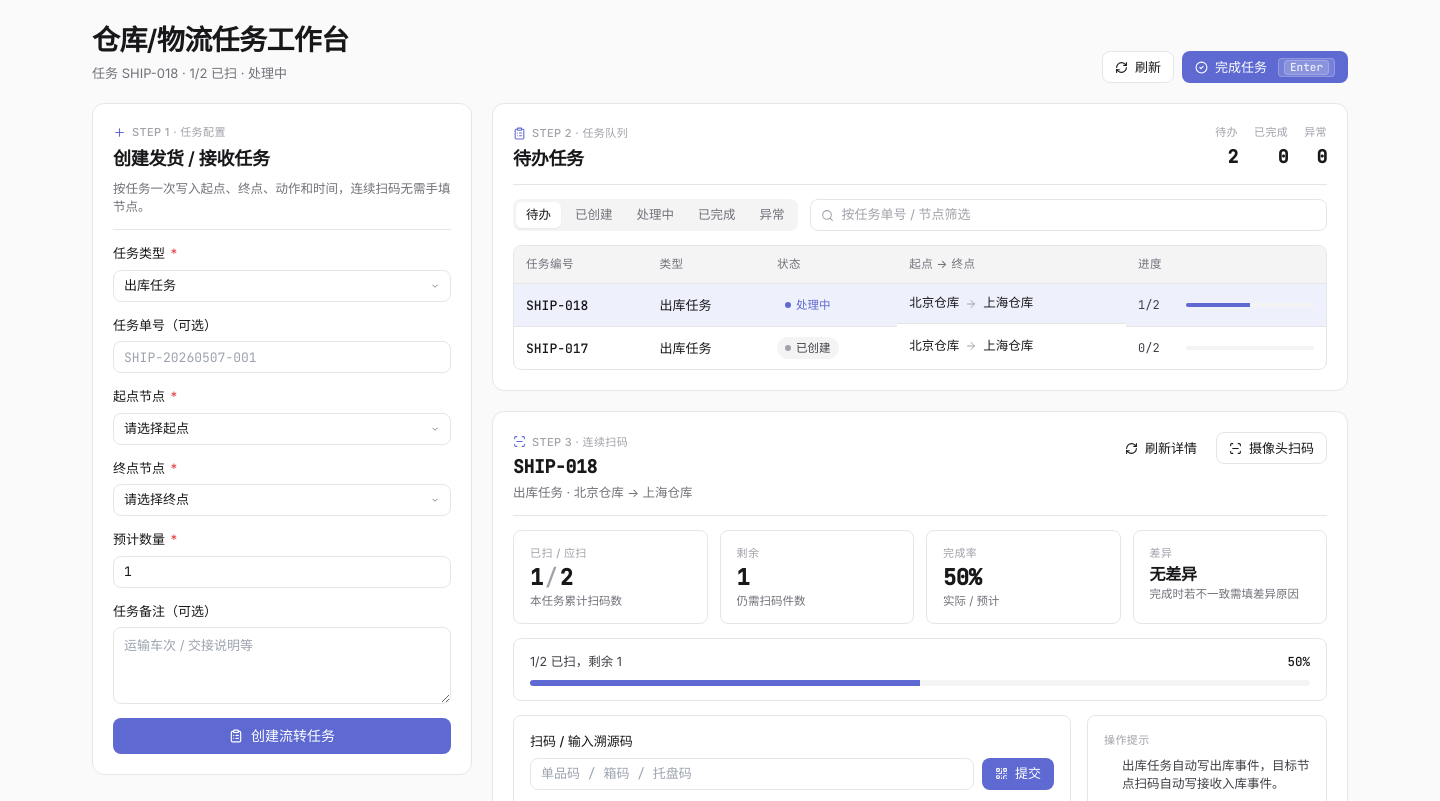
Test case: TraceFlowTaskWorkbench › creates a flow task with nodes and expected quantity
Select "BJ_WH - 北京仓库" in the dropdown with test id "flow-task-source-select" at [282, 429], box [113, 413, 451, 445]
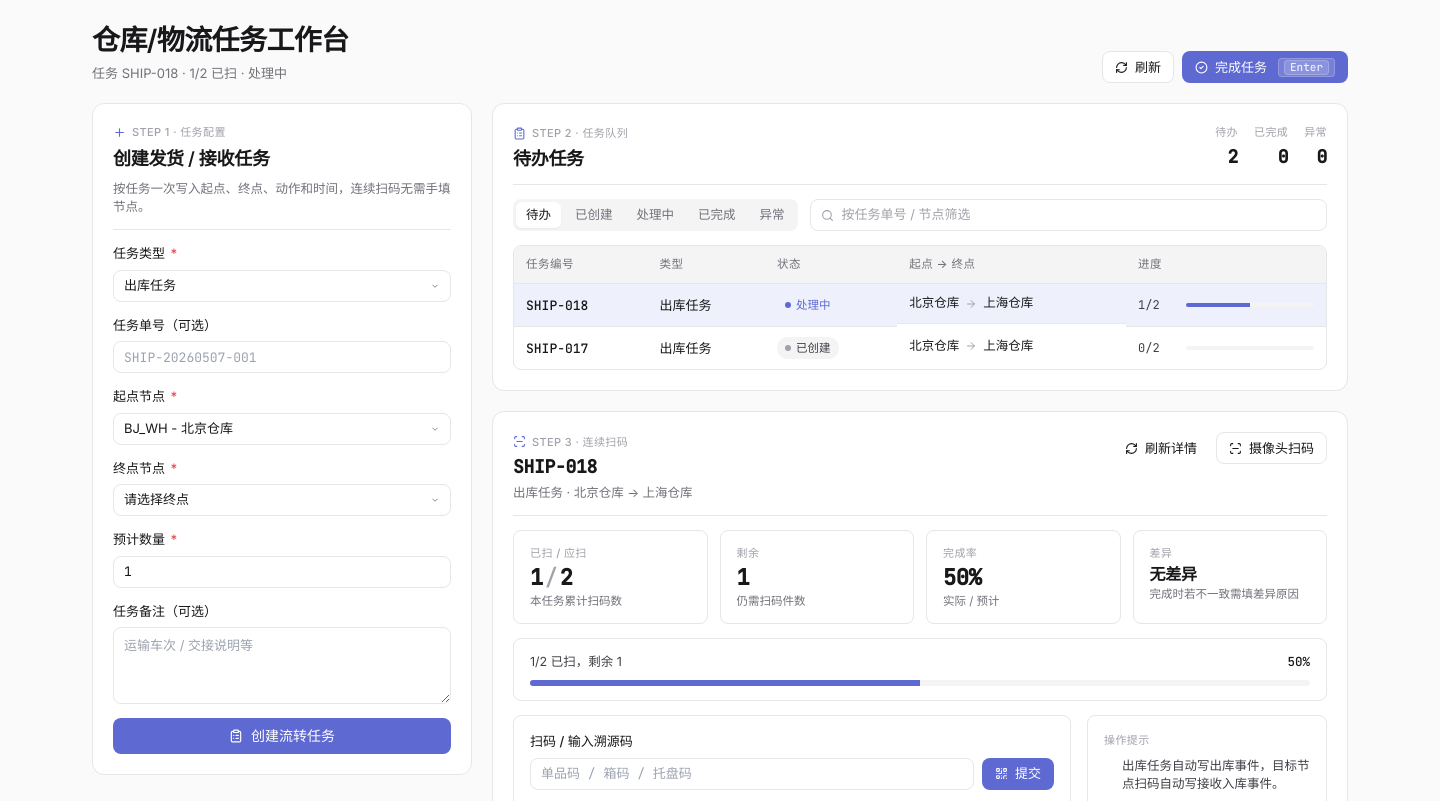
Select "SH_WH - 上海仓库" in the dropdown with test id "flow-task-target-select" at [282, 500], box [113, 484, 451, 516]
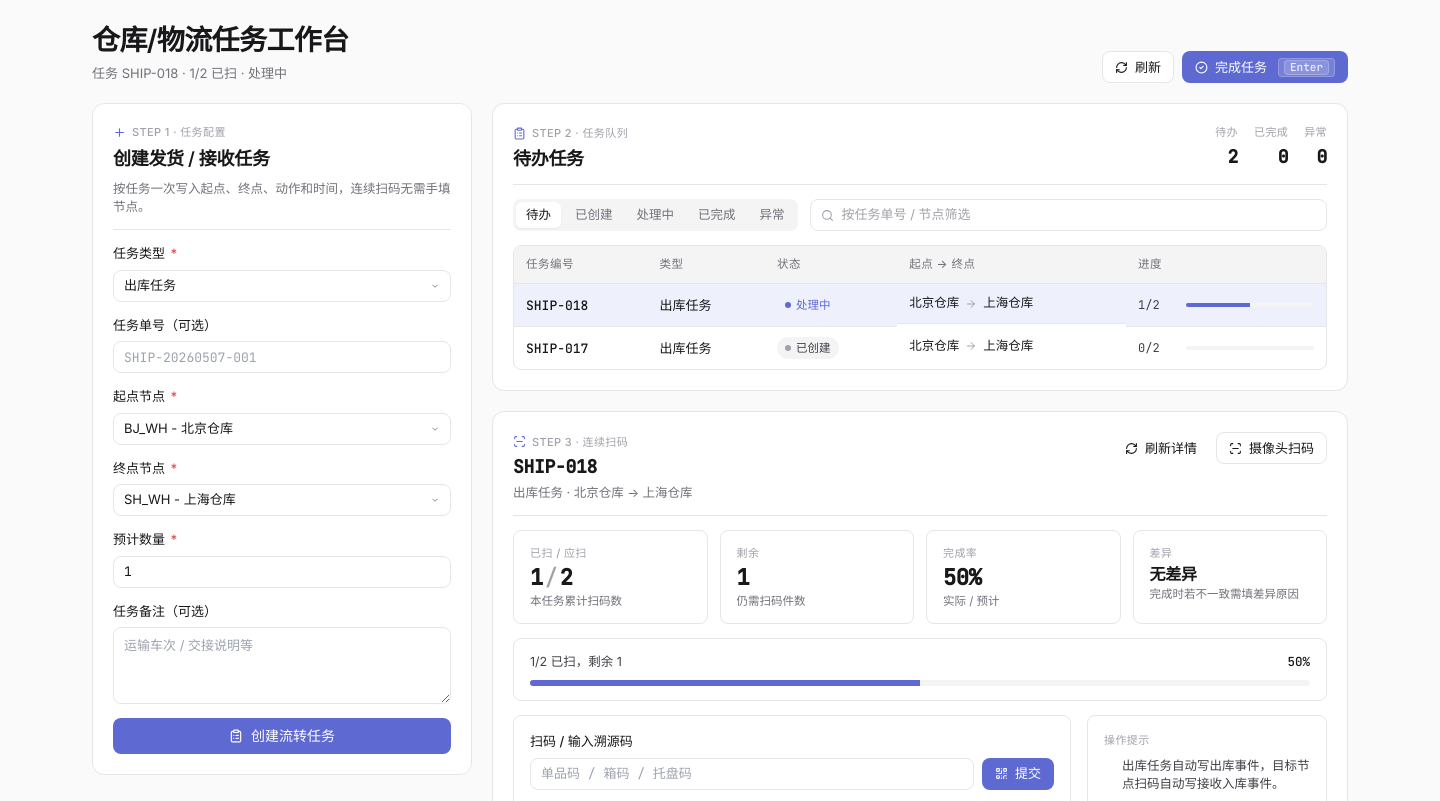
Replace the text in the number field with test id "flow-task-expected-input" with "3" at [282, 572], box [113, 556, 451, 588]
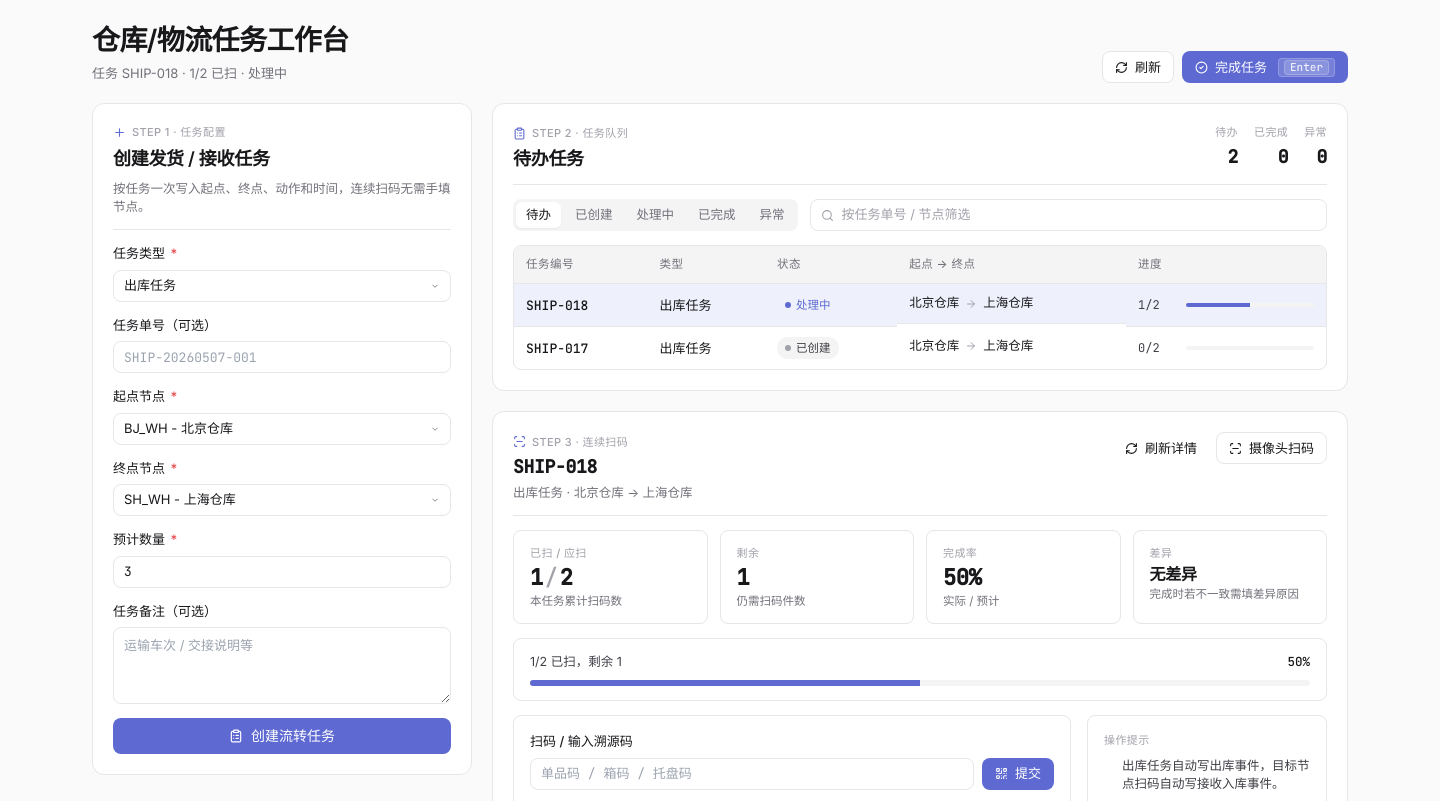
Submit the form with test id "flow-task-create-form", box [92, 103, 472, 775]
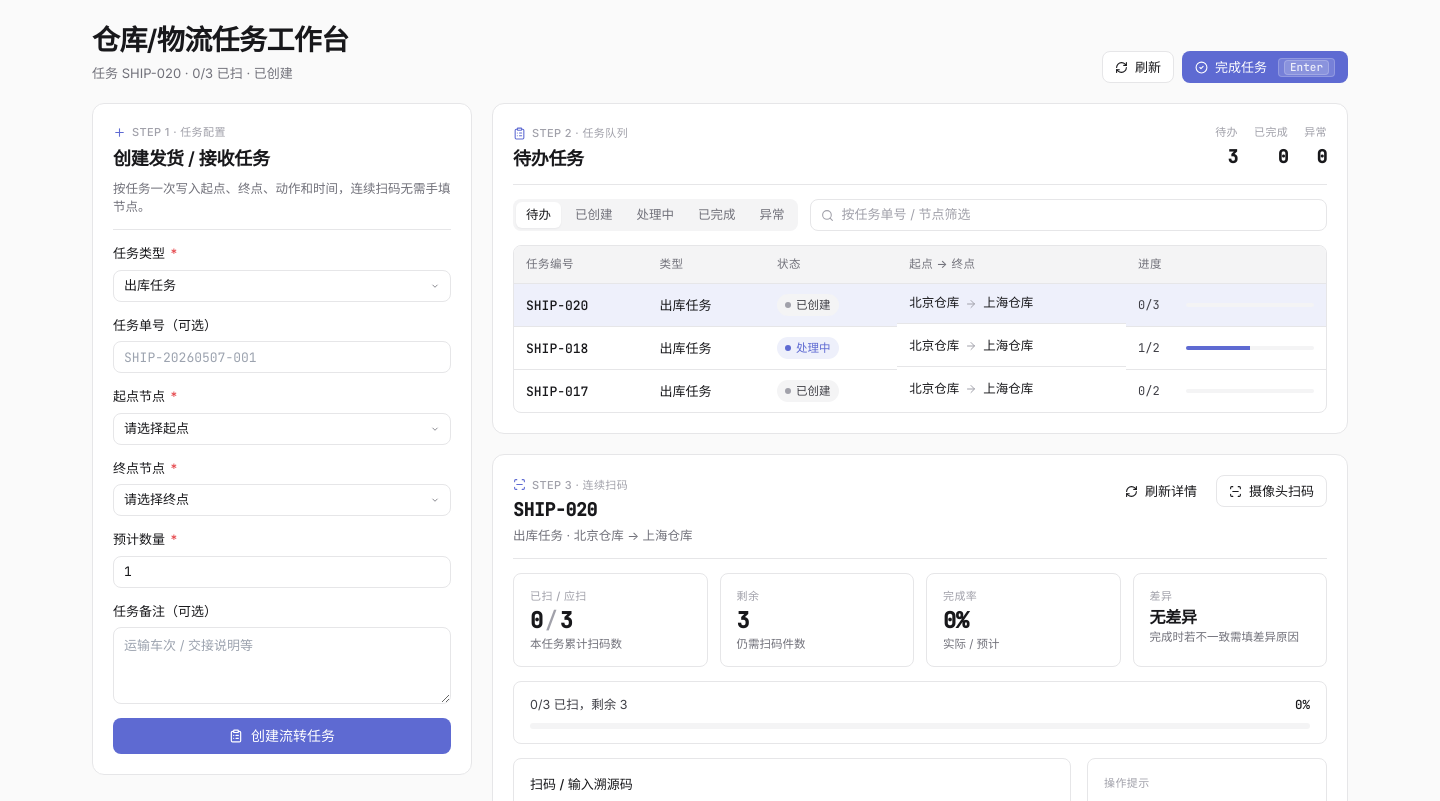
Expected: the text "SHIP-020" is shown, [92, 65, 293, 81]
